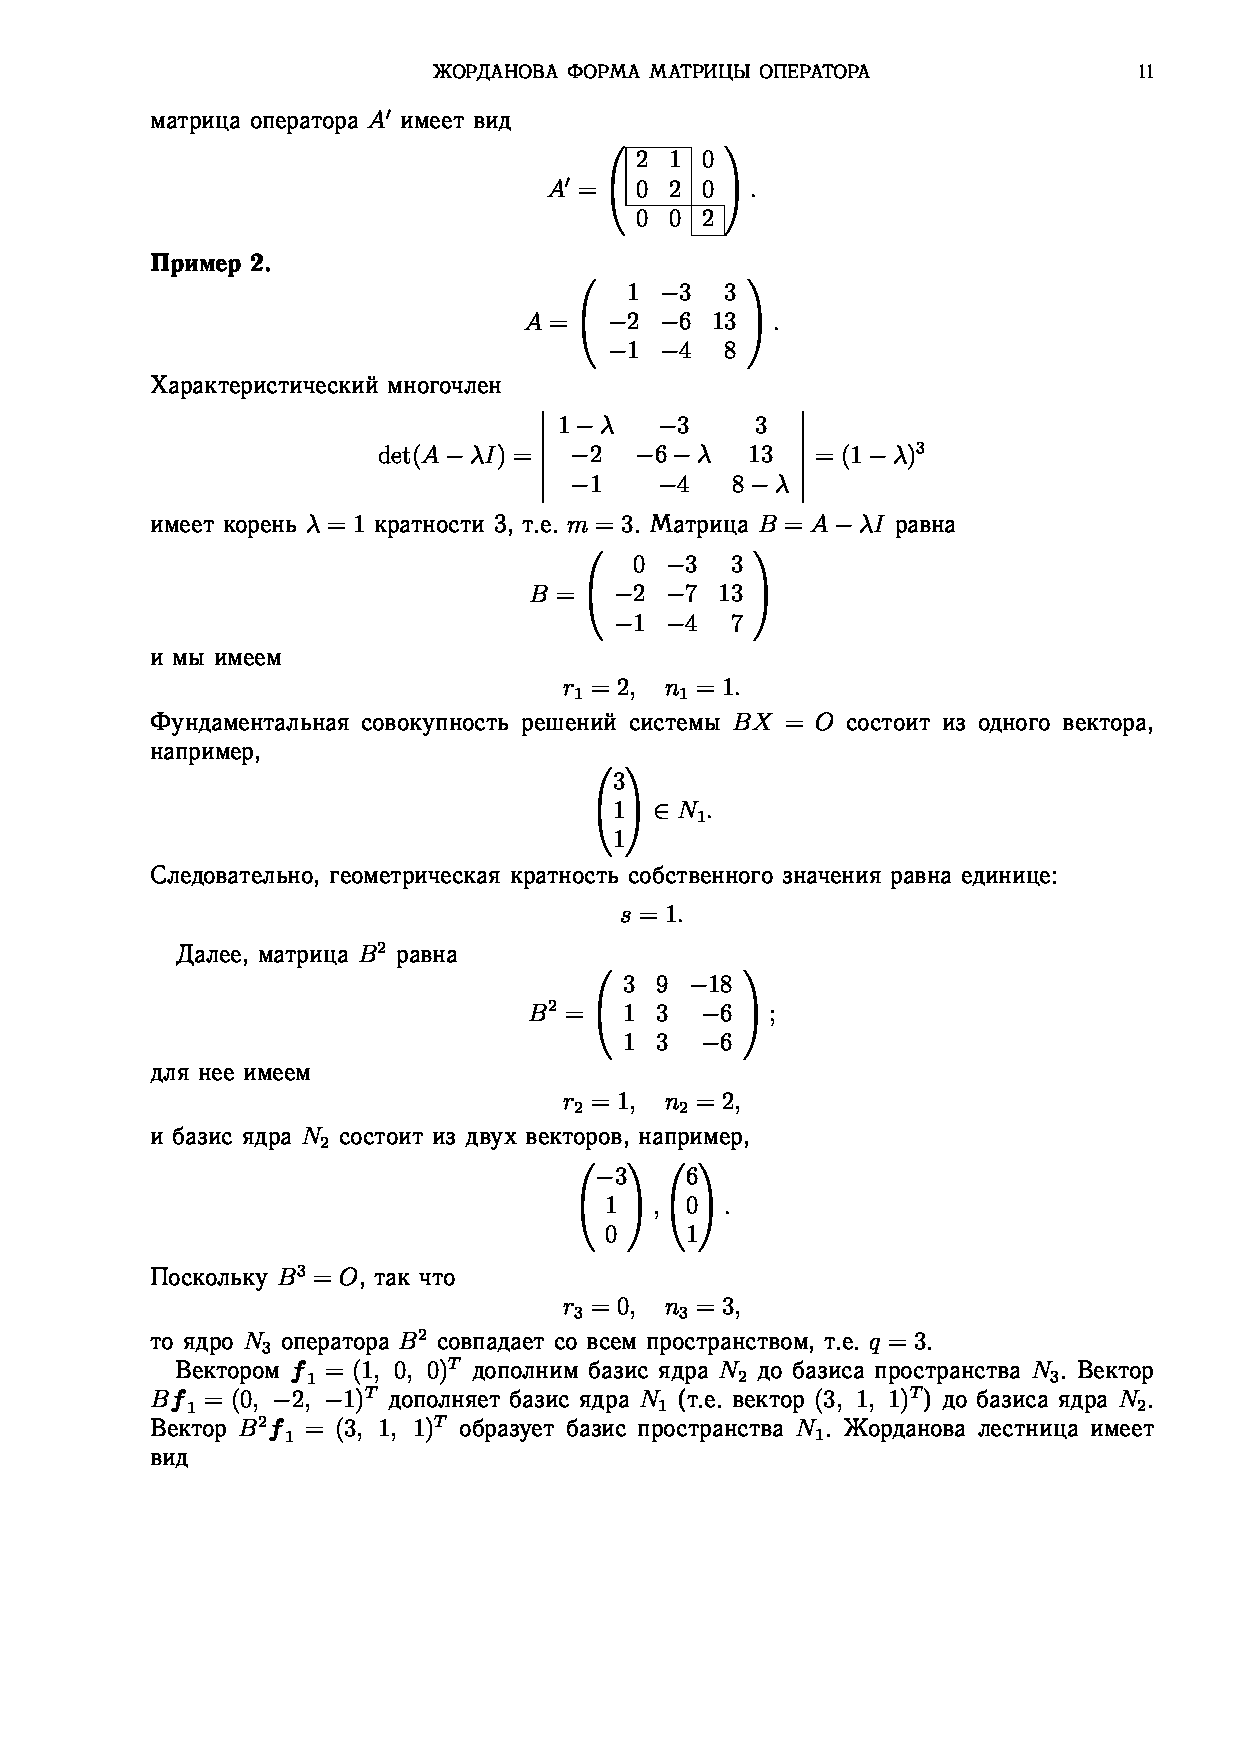lMatrix: (539, 409, 811, 511)
pMatrix: (580, 275, 762, 376), (588, 549, 772, 647), (595, 966, 756, 1067), (611, 142, 739, 236), (580, 1155, 644, 1260), (597, 768, 641, 862), (670, 1158, 713, 1251)
